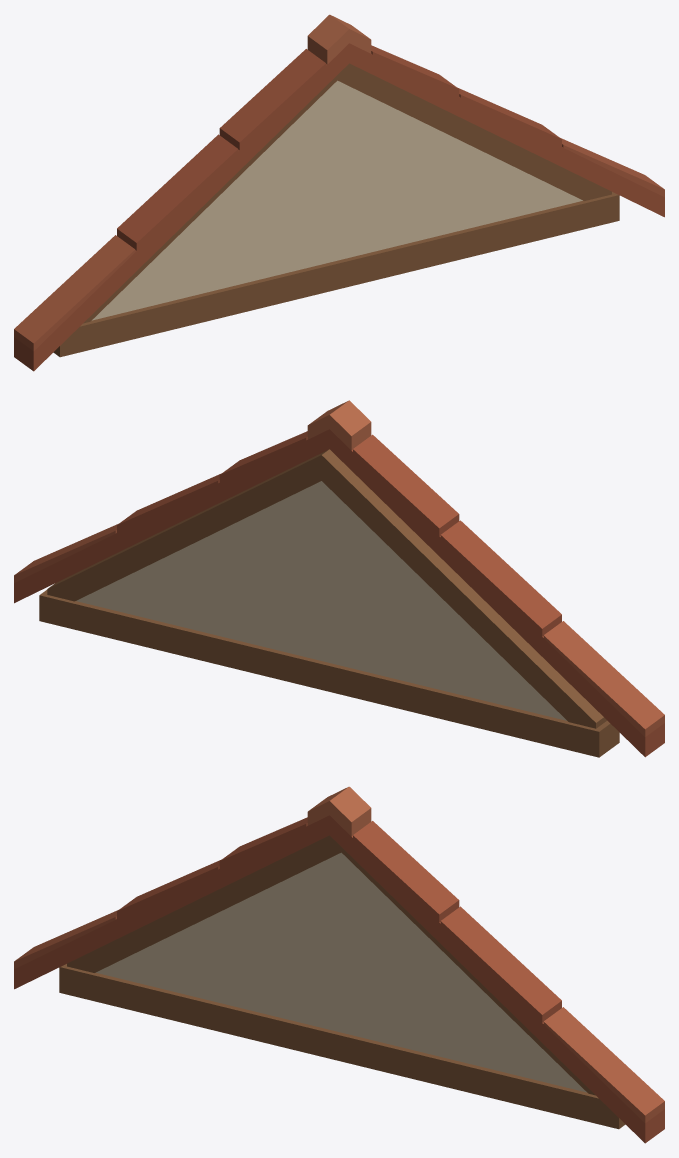
3 views of the same model, one above another, from view 1: azimuth 30°, elevation 25°; view 2: azimuth 150°, elevation 25°; view 3: azimuth 330°, elevation 25° (orthographic).
Visible parts, largest first — view 1: village-gable-end-4m-01; view 2: village-gable-end-4m-01; view 3: village-gable-end-4m-01.
Part boxes in pixels (bbox=[...]): village-gable-end-4m-01: bbox=[14, 14, 664, 371]; village-gable-end-4m-01: bbox=[14, 400, 664, 757]; village-gable-end-4m-01: bbox=[14, 786, 664, 1143].
Bounding box in the file's own units: 4.6 × 1.86 × 0.38.
